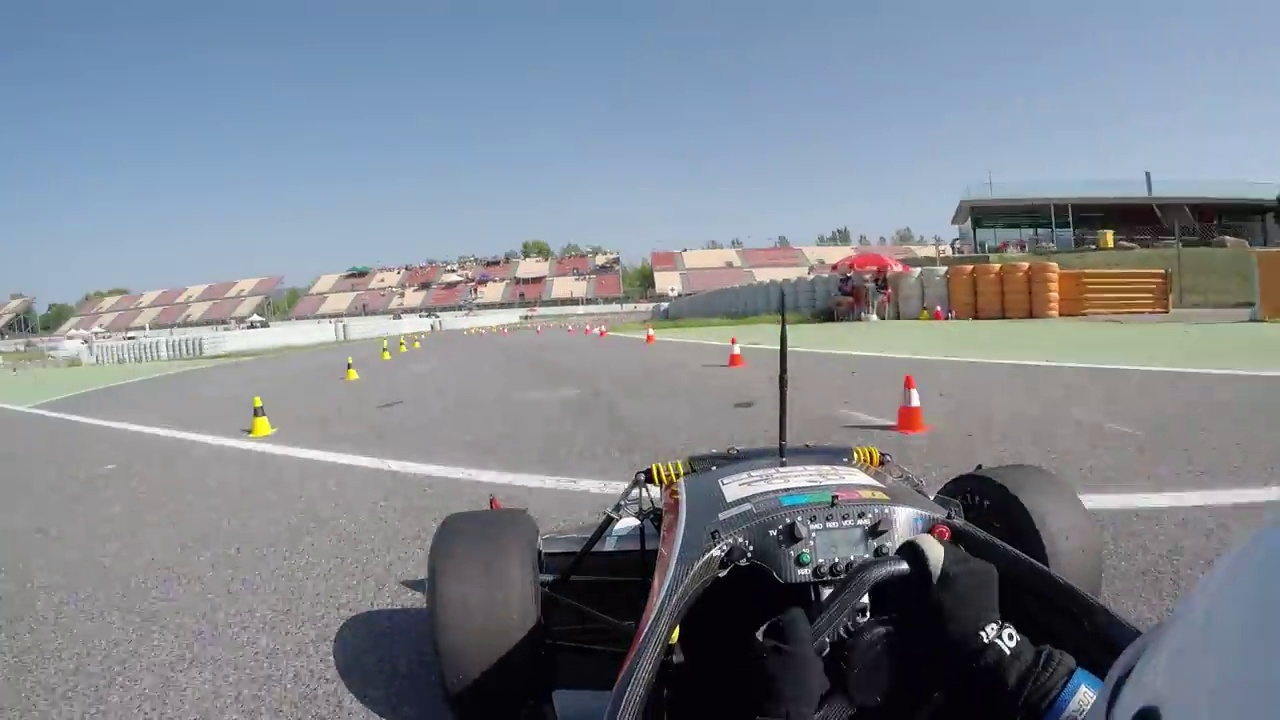Cone: (894, 373, 929, 435), (248, 394, 276, 438), (727, 336, 744, 368)
